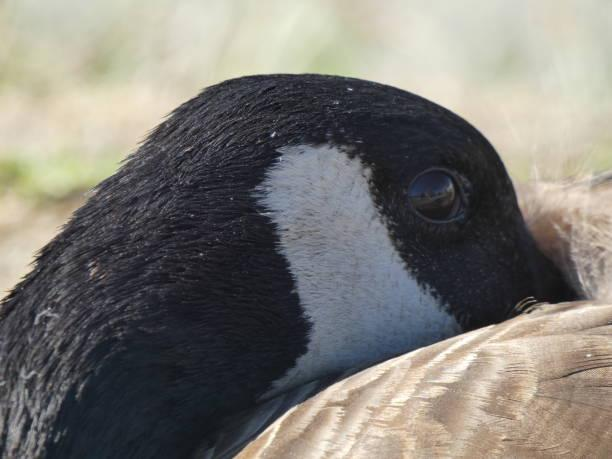Canadian-Goose: (0, 67, 612, 459)
